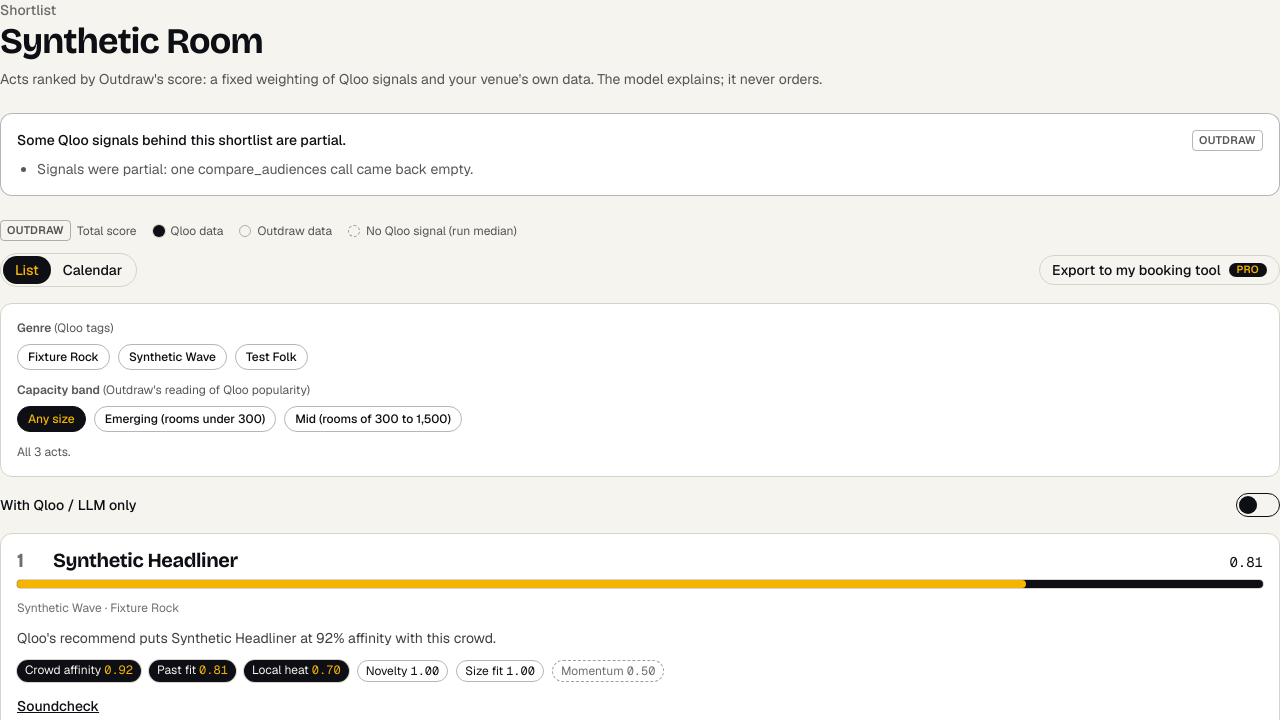
shortlist filters › says so when no act matches
Click the button "Synthetic Wave" at (172, 357), box [118,344,227,370]
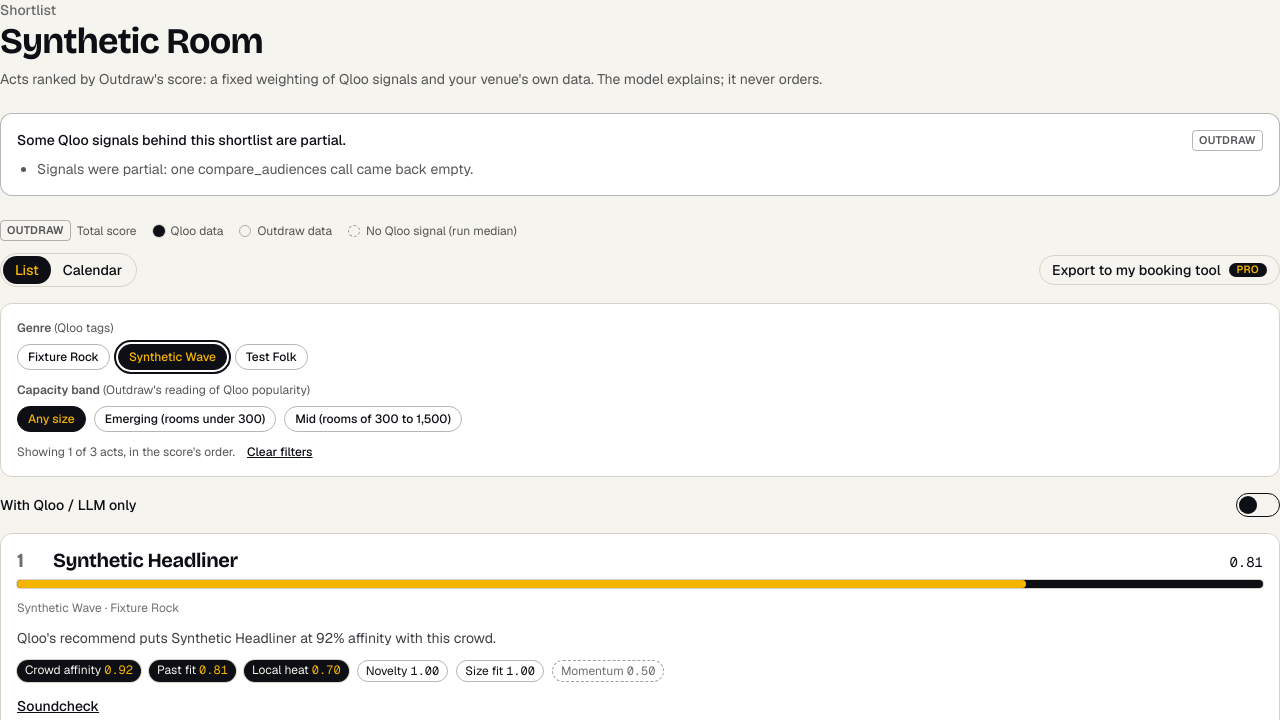
Click the button "Emerging (rooms under 300)" at (185, 419), box [94,406,276,432]
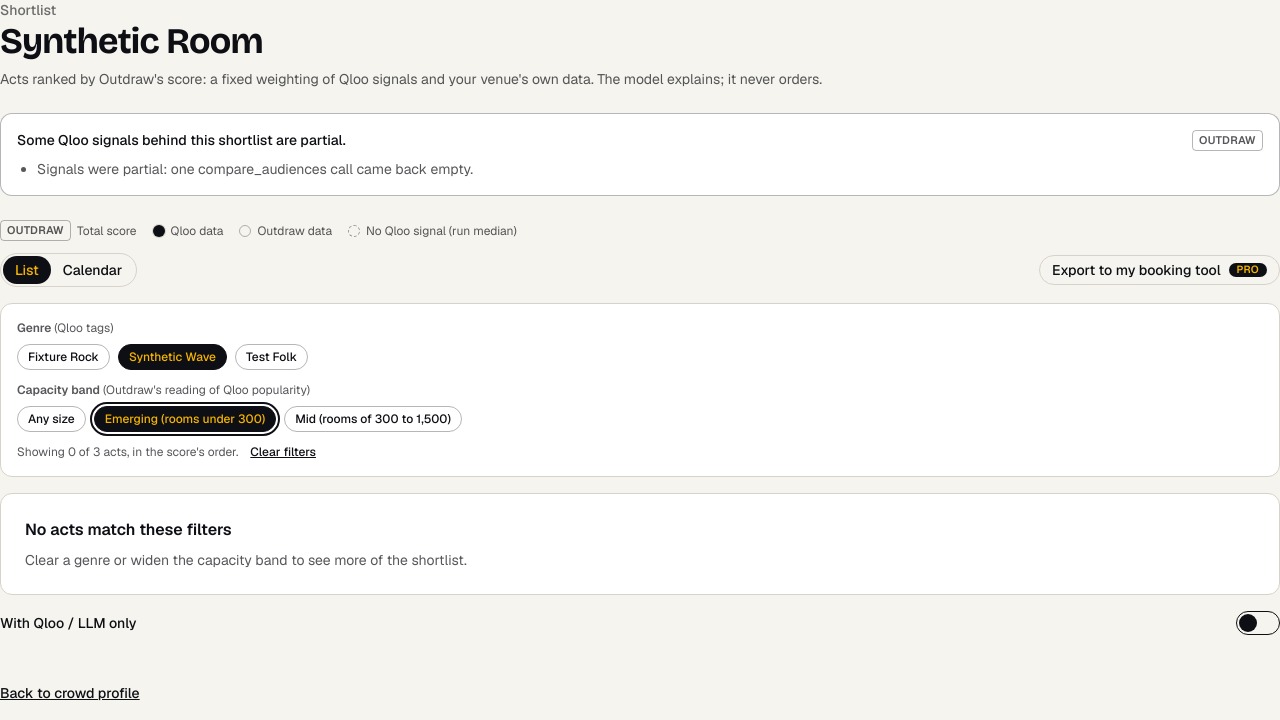
Expected: the message shows "No acts match these filters", [25,519,232,540]
